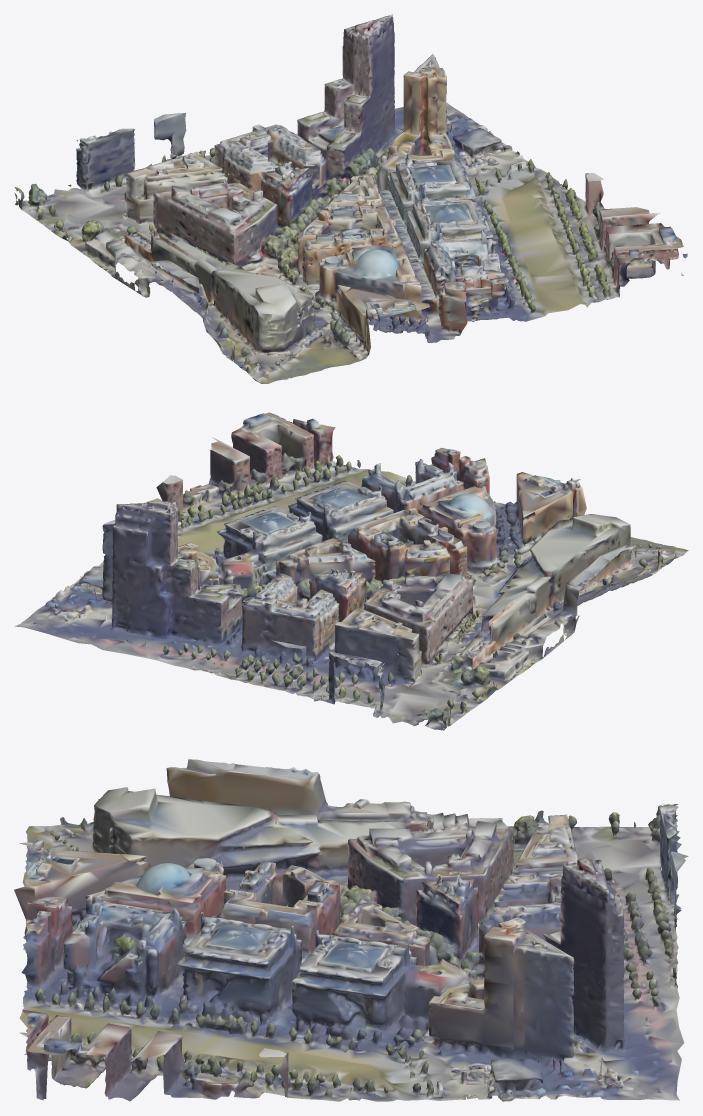
File: tile-3894_58185.glb
3 renders of one model, top to bottom at view 1: azimuth 30°, elevation 25°; view 2: azimuth 150°, elevation 25°; view 3: azimuth 270°, elevation 25°, orthographic. The views are drawn at different scales.
Visible parts, largest first — view 1: world; view 2: world; view 3: world.
Boxes of the visible parts, <box> form: world: <box>14,14,687,383</box>; world: <box>14,412,688,730</box>; world: <box>14,759,688,1101</box>.
Size of the model in its own units: 371 by 110 by 375.
